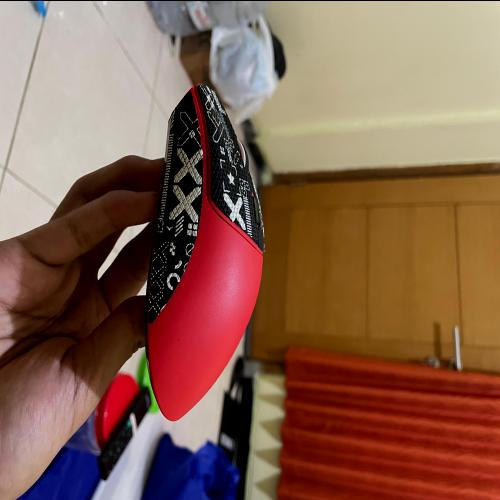Mouse: (140, 70, 275, 428)
